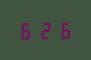six: (18, 20, 35, 40), (55, 19, 72, 39)
two: (37, 20, 54, 39)
